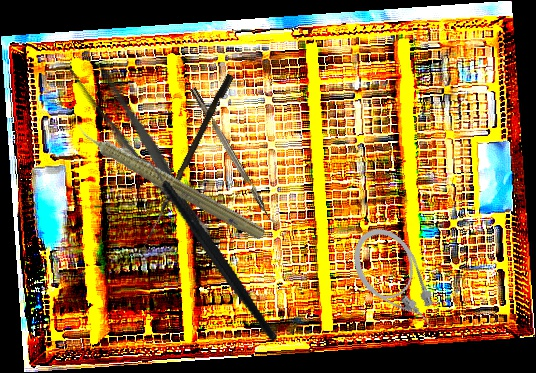Cannula: (341, 217, 448, 345)
Chopper: (129, 130, 279, 365), (190, 83, 282, 228)
Dressing Forceps: (62, 49, 227, 255)
Handpiece: (62, 113, 271, 245)
Hook Surgical: (142, 72, 234, 253)
